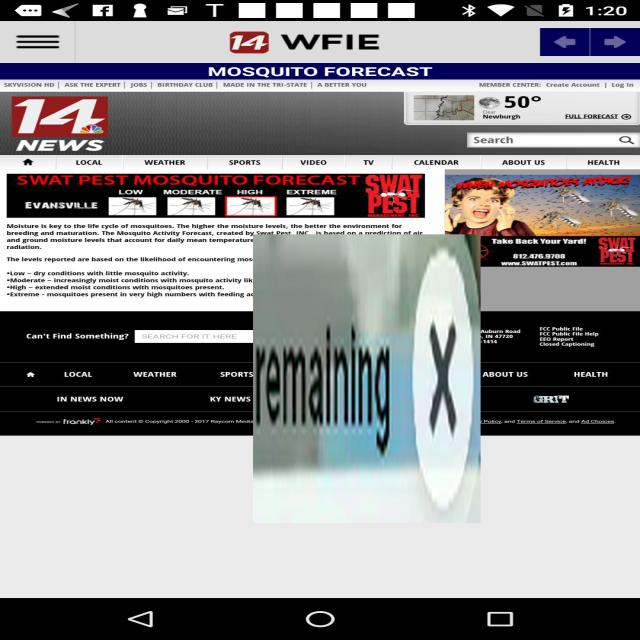misdirection: (253, 234, 481, 523)
